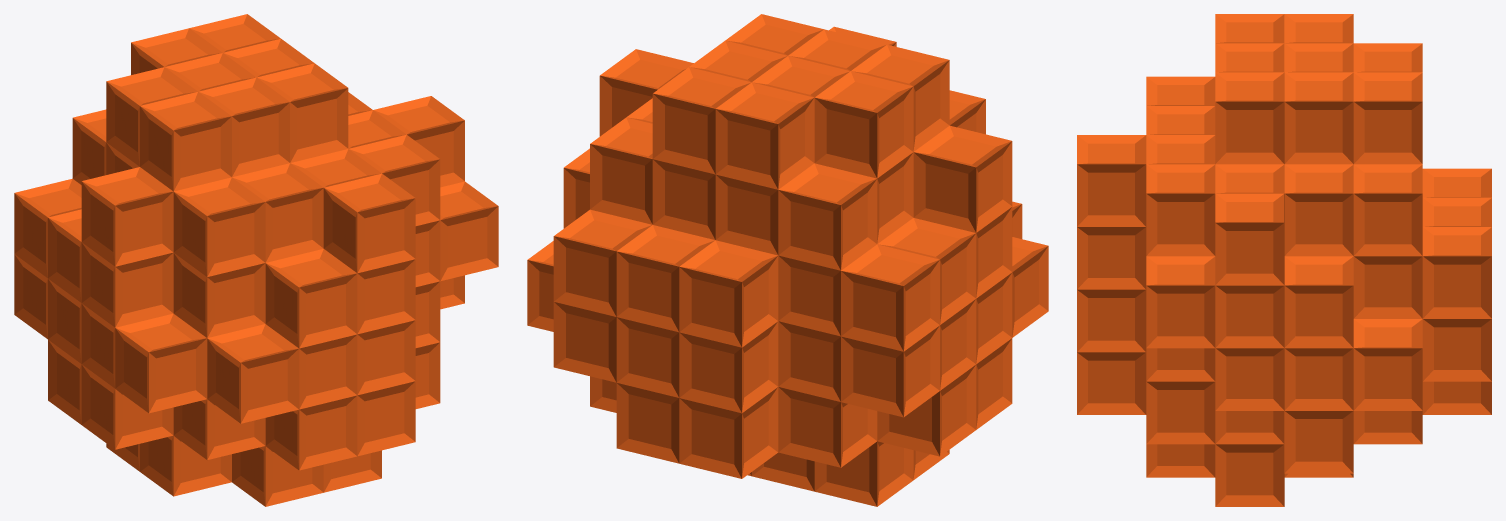
The model's file is BombaLava.fbx.
3 views of the same model, side by side, from view 1: azimuth 30°, elevation 25°; view 2: azimuth 150°, elevation 25°; view 3: azimuth 270°, elevation 25° (orthographic). The views are drawn at different scales.
Visible parts, largest first — view 1: BombaLava; view 2: BombaLava; view 3: BombaLava.
Boxes of the visible parts, box(x1,y1,x2,y2) form: BombaLava: box(14, 14, 498, 506); BombaLava: box(527, 14, 1048, 506); BombaLava: box(1077, 14, 1491, 506).
Size of the model in its own units: 0.56 by 0.56 by 0.56.
